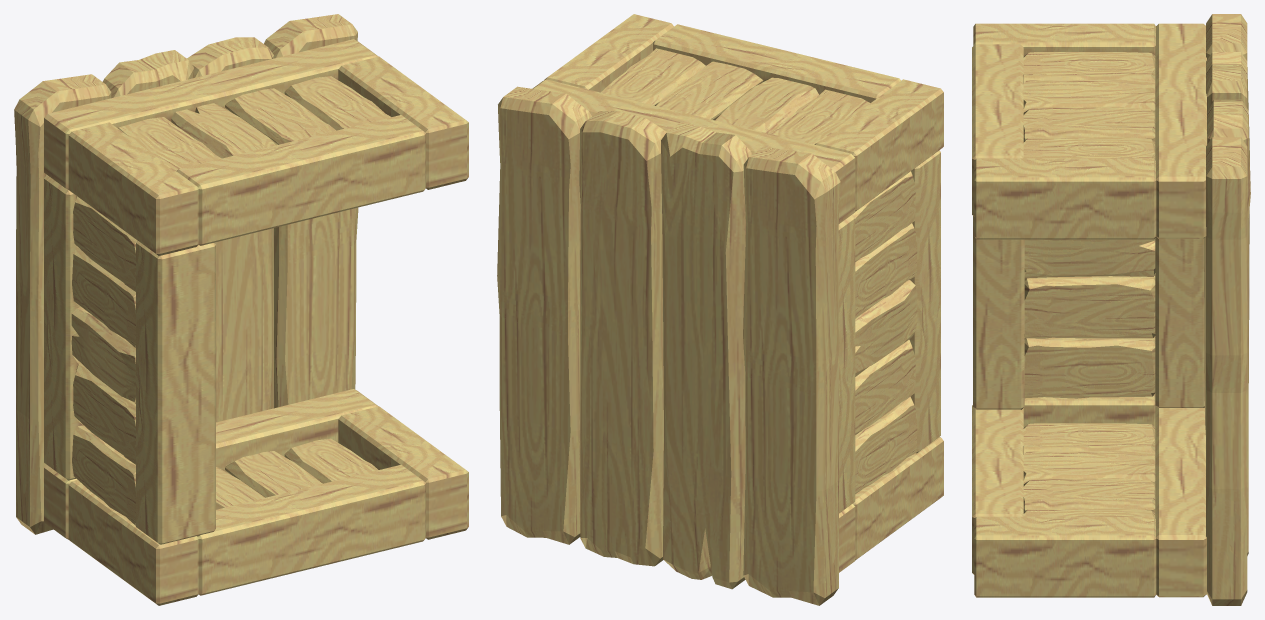
The model's file is BridgeBox.FBX.
3 renders of one model, left to right at view 1: azimuth 30°, elevation 25°; view 2: azimuth 150°, elevation 25°; view 3: azimuth 270°, elevation 25°, orthographic. The views are drawn at different scales.
Parts seen in each view (by area): view 1: pasted__polySurface2515__pasted__Wood_00; view 2: pasted__polySurface2515__pasted__Wood_00; view 3: pasted__polySurface2515__pasted__Wood_00.
Part boxes in pixels (<box>): pasted__polySurface2515__pasted__Wood_00: <box>14,14,468,605</box>; pasted__polySurface2515__pasted__Wood_00: <box>497,14,943,605</box>; pasted__polySurface2515__pasted__Wood_00: <box>972,14,1250,605</box>.
Bounding box in the file's own units: 426 × 546 × 304.
